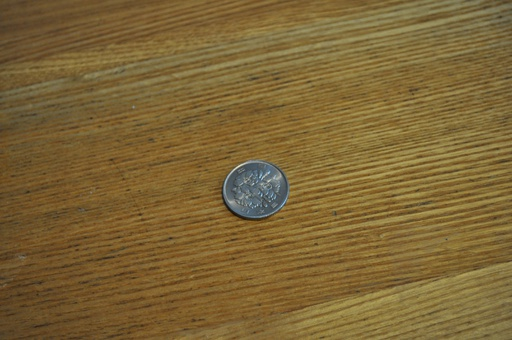100yen: (223, 161, 288, 218)
